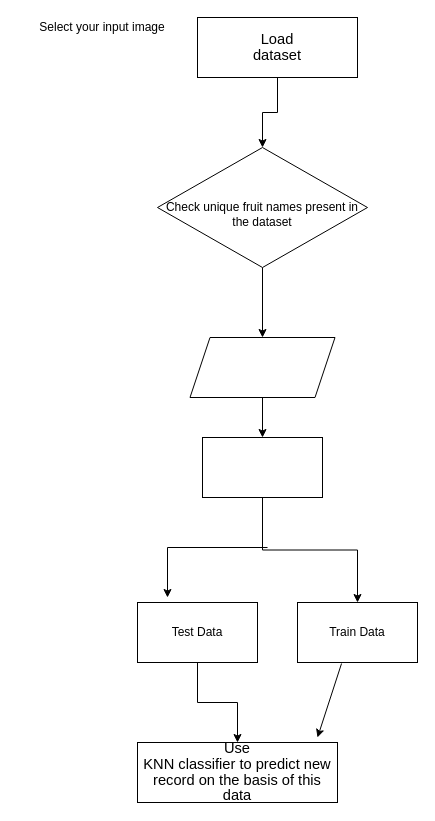
Image size: 435x821. Some labels were removed from this diagram. The box of each missing label's shape, as (x1, y1, x2, y2) in pixels:
Label Encoder: (202, 436, 322, 498)
Save unique fruits in different dataset: (189, 336, 335, 398)
